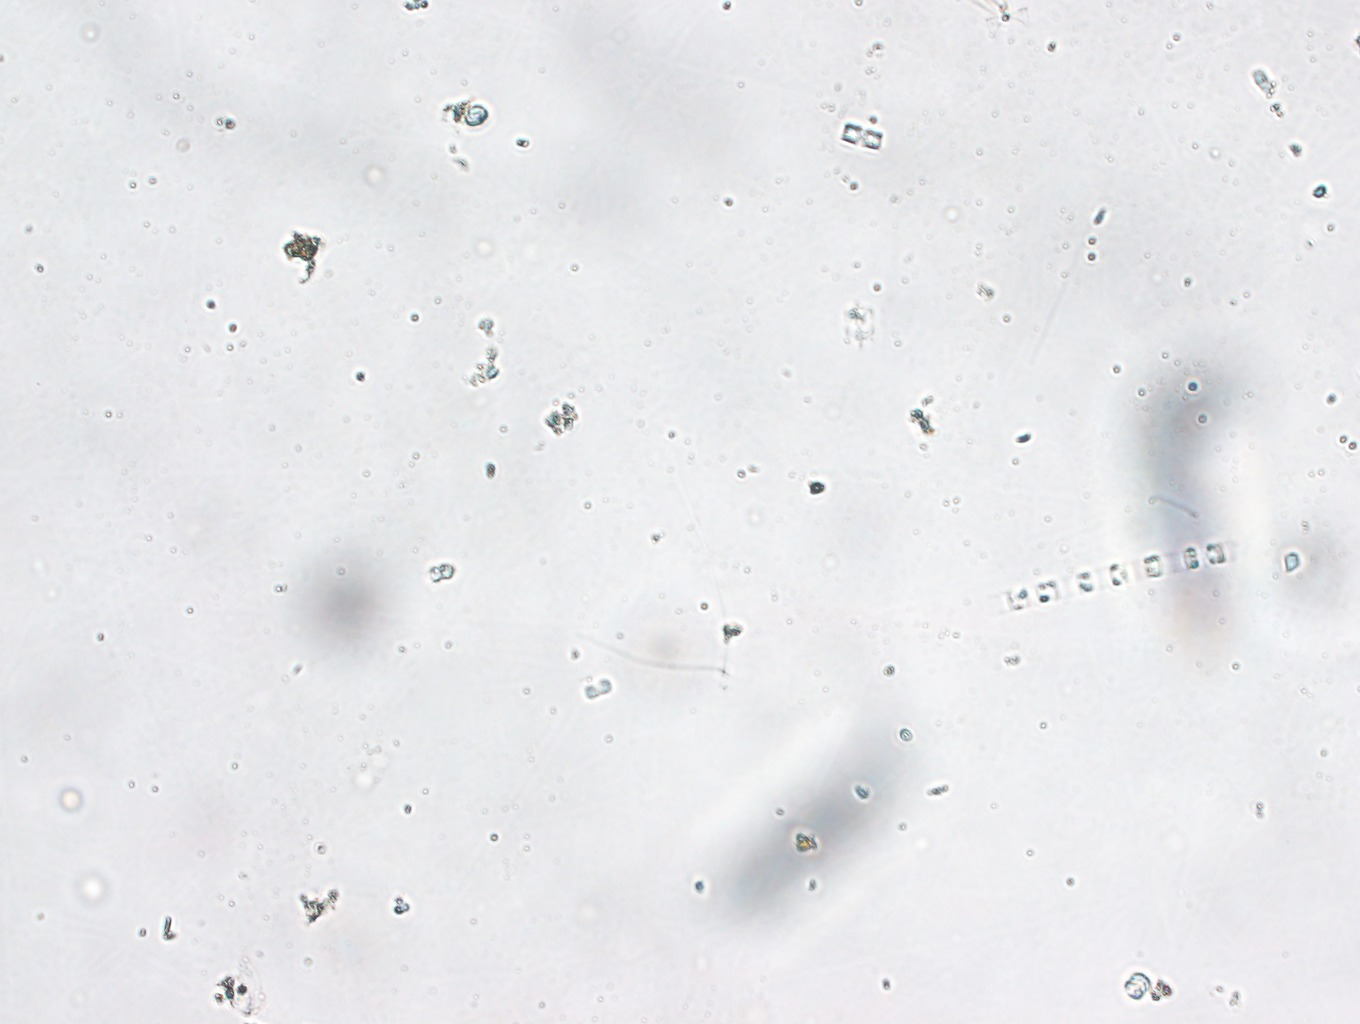skeletonema: (983, 539, 1276, 615)
